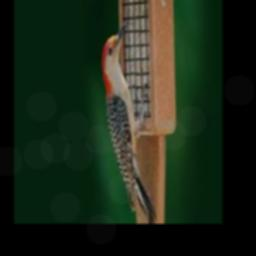Woodpecker: (102, 20, 156, 221)
